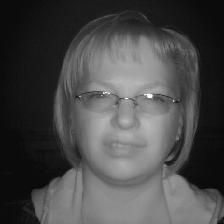happy: (49, 16, 213, 183)
